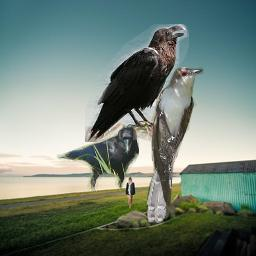Crow: (85, 24, 189, 142), (56, 126, 139, 192)
Cuckoo: (145, 65, 204, 223)
